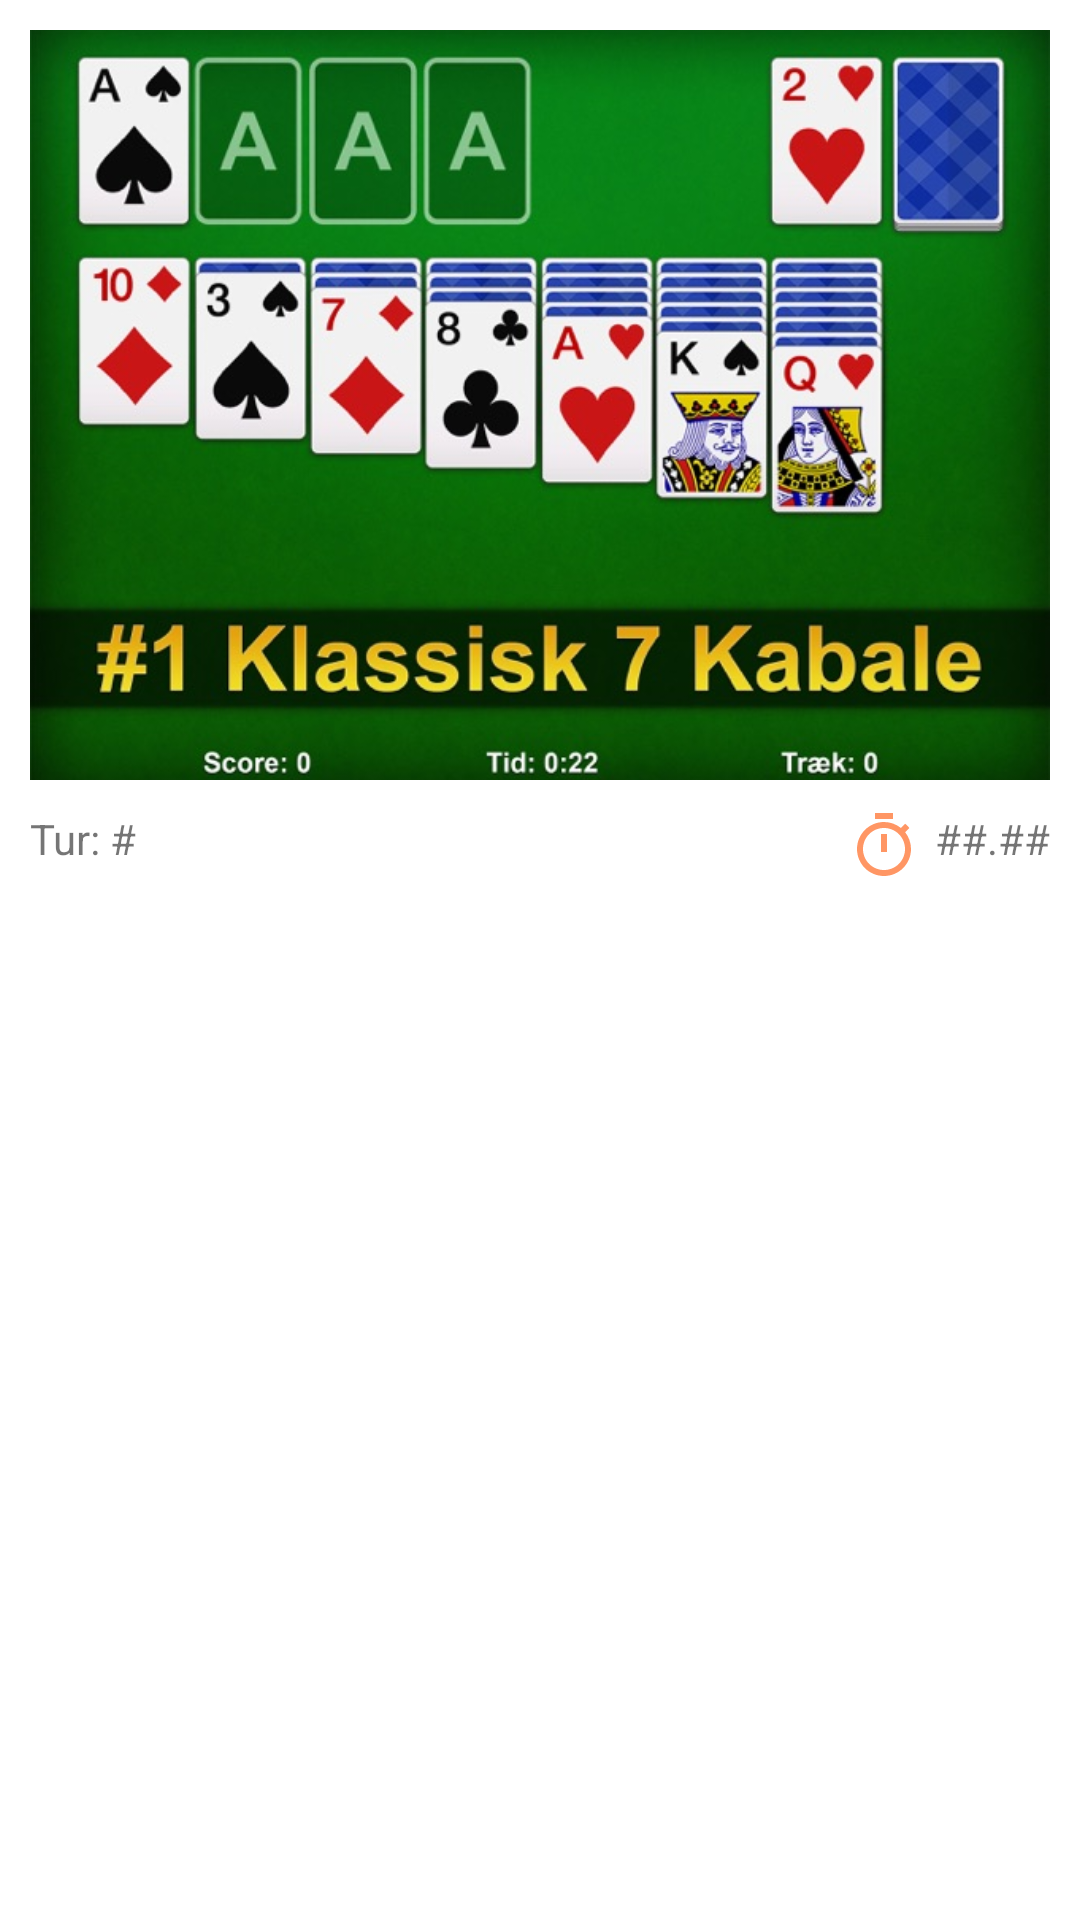

Screen size 1080px×1920px. Icon name, then its center in pixels as (x=x, y=y):
timer: (x=884, y=844)
